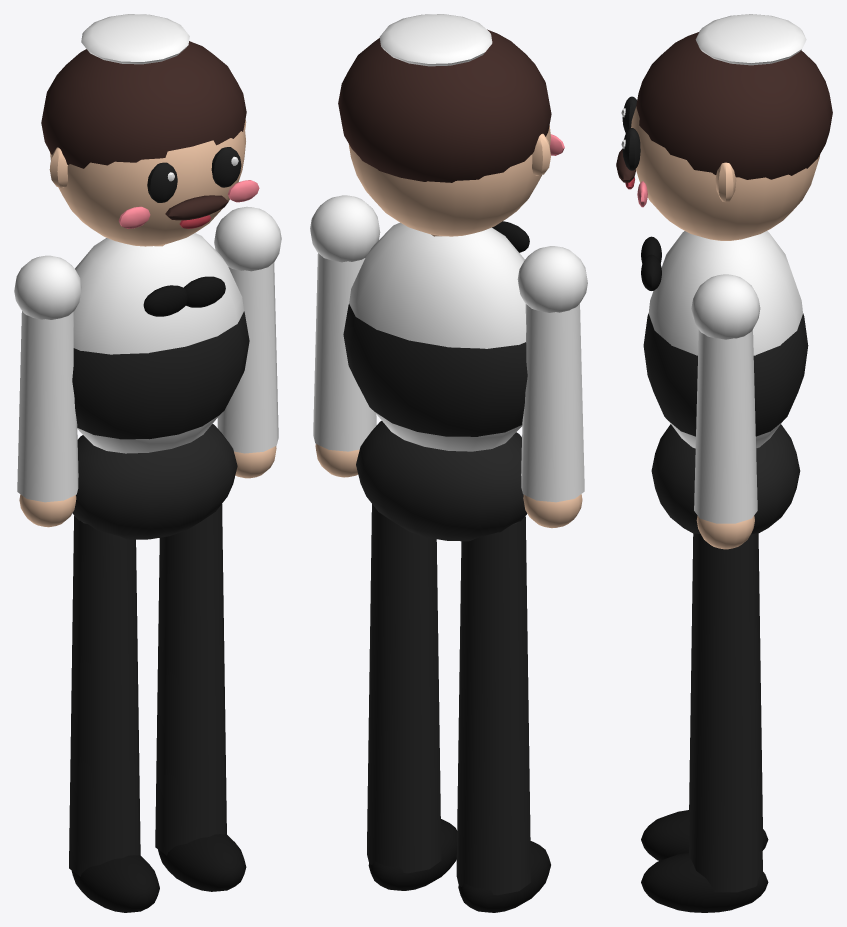
The model's file is foot_aviel.glb.
3 views of the same model, side by side, from view 1: azimuth 30°, elevation 25°; view 2: azimuth 150°, elevation 25°; view 3: azimuth 270°, elevation 25° (orthographic). The views are drawn at different scales.
Visible parts, largest first — view 1: Body, Leg_R, Leg_L, Arm_R, Arm_L; view 2: Body, Leg_R, Leg_L, Arm_R, Arm_L; view 3: Body, Leg_L, Arm_L, Leg_R.
Part boxes in pixels (x1,y1,x2,y2): Body: (41, 14, 259, 539); Leg_R: (69, 515, 159, 912); Leg_L: (155, 504, 246, 891); Arm_R: (14, 255, 81, 527); Arm_L: (214, 206, 281, 478); Body: (338, 14, 564, 541); Leg_R: (456, 516, 550, 912); Leg_L: (367, 504, 457, 890); Arm_R: (517, 246, 587, 528); Arm_L: (310, 195, 380, 477); Body: (616, 14, 832, 534); Leg_L: (641, 533, 768, 912); Arm_L: (691, 274, 760, 549); Leg_R: (641, 533, 768, 860).
Bounding box in the file's own units: 0.57 × 1.78 × 0.4081.
